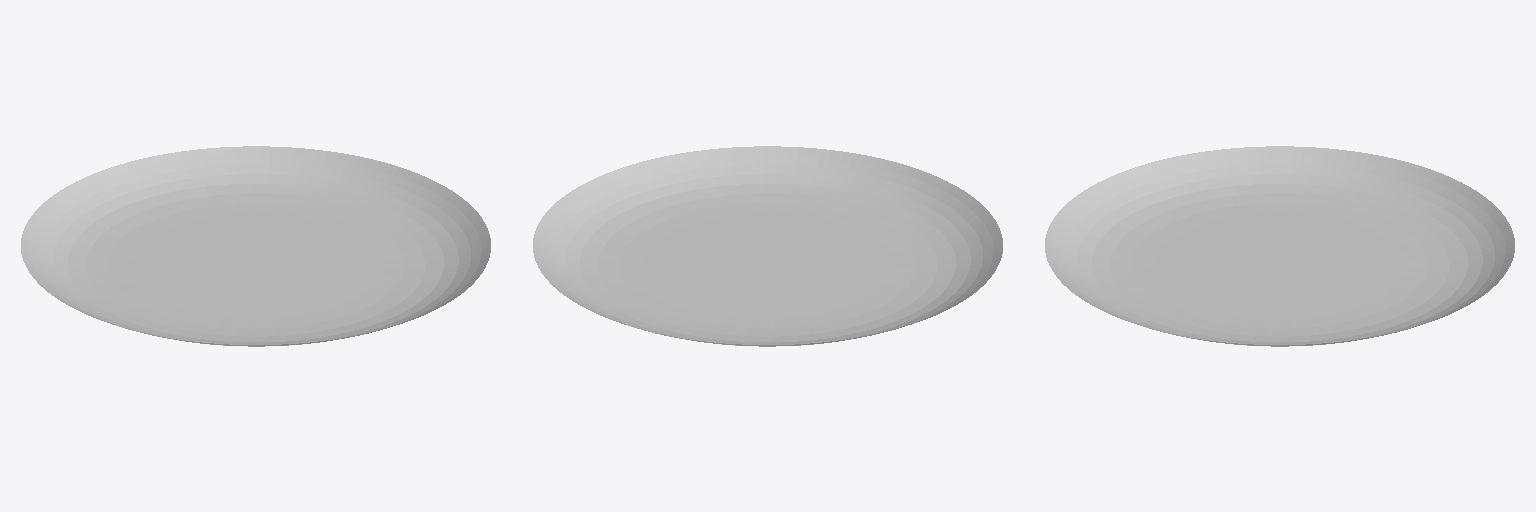
The model's file is platter.obj.
3 views of the same model, side by side, from view 1: azimuth 30°, elevation 25°; view 2: azimuth 150°, elevation 25°; view 3: azimuth 270°, elevation 25° (orthographic).
Visible parts, largest first — view 1: Circle_Circle.001; view 2: Circle_Circle.001; view 3: Circle_Circle.001.
Part boxes in pixels (bbox=[...]): Circle_Circle.001: bbox=[21, 146, 490, 346]; Circle_Circle.001: bbox=[533, 146, 1002, 346]; Circle_Circle.001: bbox=[1045, 146, 1514, 346].
Size of the model in its own units: 4.9 by 0.2357 by 4.9.